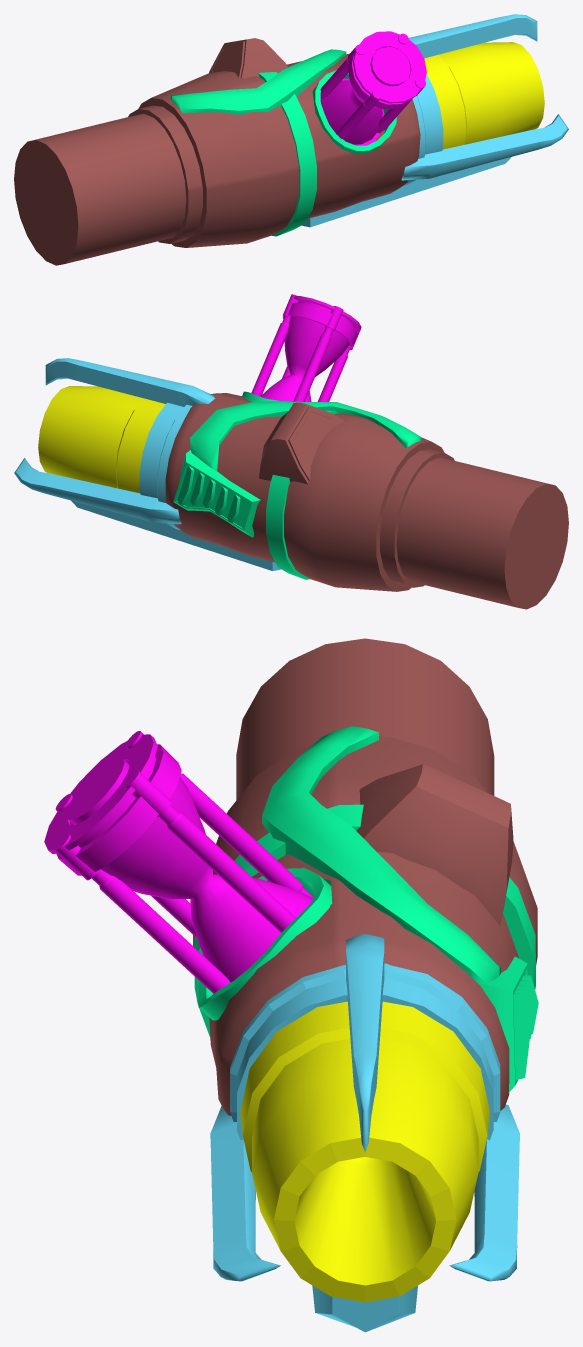
File: Player Blaster V2_7_UV.fbx
3 views of the same model, one above another, from view 1: azimuth 30°, elevation 25°; view 2: azimuth 150°, elevation 25°; view 3: azimuth 270°, elevation 25° (orthographic). The views are drawn at different scales.
Parts seen in each view (by area): view 1: Body_Base, Camera_Buffer, Barrel, Hourglass_Lid, pCylinder8, Claw_Top2, Claw_Top, Body_Ring, Barrel_Ring, Hourglass_Glass, Under_Barrel, Connector_Ring (+5 smaller); view 2: Body_Base, Camera_Buffer, Barrel, pCylinder8, Claw_Top2, Claw_Top, Hourglass_Glass, Body_Screen, Connector_Ring, pCube1, Hourglass_Poles, Barrel_Ring (+5 smaller); view 3: Barrel, Body_Base, Camera_Buffer, pCylinder8, Body_Screen, Claw_Top2, Hourglass_Glass, Hourglass_Poles, Connector_Ring, Barrel_Ring, Hourglass_Lid, Claw_Top (+6 smaller).
Boxes of the visible parts, x1,y1,x2,y2 form: Body_Base: [128, 53, 420, 247]; Camera_Buffer: [14, 113, 186, 265]; Barrel: [438, 42, 544, 144]; Hourglass_Lid: [342, 31, 426, 145]; pCylinder8: [170, 49, 346, 114]; Claw_Top2: [401, 114, 568, 180]; Claw_Top: [408, 14, 537, 58]; Body_Ring: [258, 72, 316, 236]; Barrel_Ring: [424, 55, 467, 149]; Hourglass_Glass: [320, 80, 382, 144]; Under_Barrel: [302, 157, 511, 227]; Connector_Ring: [402, 74, 443, 186]; Body_Base: [165, 393, 454, 591]; Camera_Buffer: [396, 457, 568, 609]; Barrel: [38, 386, 144, 488]; pCylinder8: [190, 401, 421, 471]; Claw_Top2: [14, 458, 181, 524]; Claw_Top: [45, 358, 215, 406]; Hourglass_Glass: [261, 316, 349, 401]; Body_Screen: [259, 402, 343, 484]; Connector_Ring: [139, 402, 192, 529]; pCube1: [173, 450, 260, 537]; Hourglass_Poles: [251, 316, 349, 401]; Barrel_Ring: [115, 398, 165, 493]; Barrel: [252, 1038, 478, 1302]; Body_Base: [193, 736, 537, 1115]; Camera_Buffer: [236, 638, 494, 799]; pCylinder8: [262, 726, 500, 984]; Body_Screen: [356, 764, 513, 925]; Claw_Top2: [210, 1104, 519, 1281]; Hourglass_Glass: [101, 777, 312, 982]; Hourglass_Poles: [92, 773, 313, 993]; Connector_Ring: [230, 963, 500, 1140]; Barrel_Ring: [240, 1001, 489, 1172]; Hourglass_Lid: [44, 734, 181, 875]; Claw_Top: [346, 934, 384, 1151].
Size of the model in its own units: 484 by 211 by 211.
